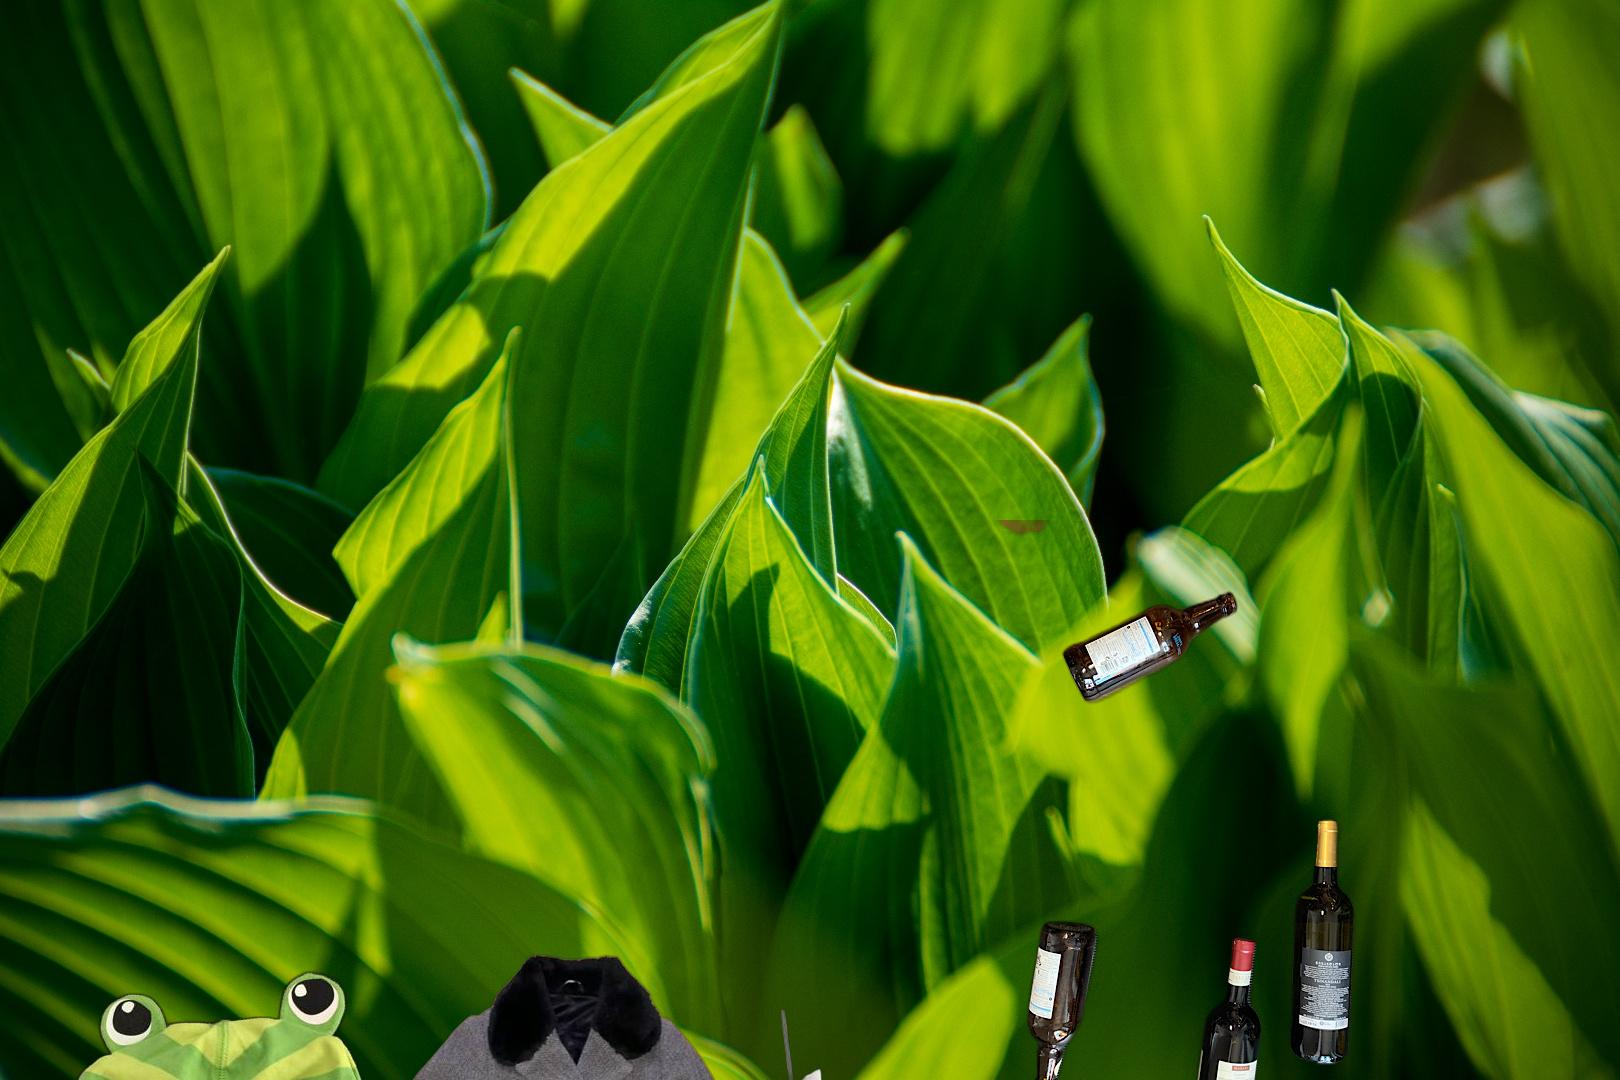clothes: (388, 949, 783, 1080), (52, 968, 400, 1080)
glass: (987, 520, 1358, 1080)
paper: (1458, 803, 1620, 1014)
plastic-bag: (676, 1010, 833, 1080)
